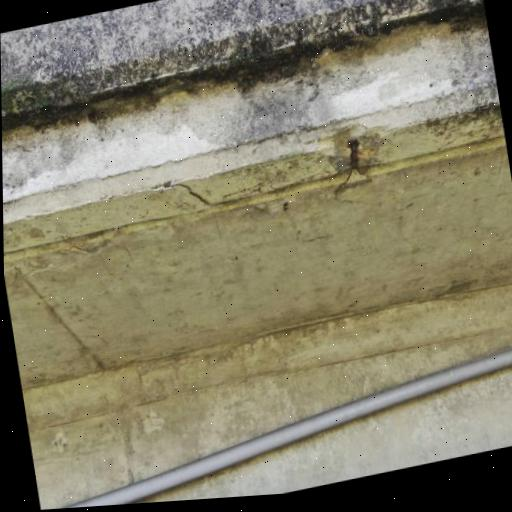exposed_rebar: (348, 138, 359, 169)
